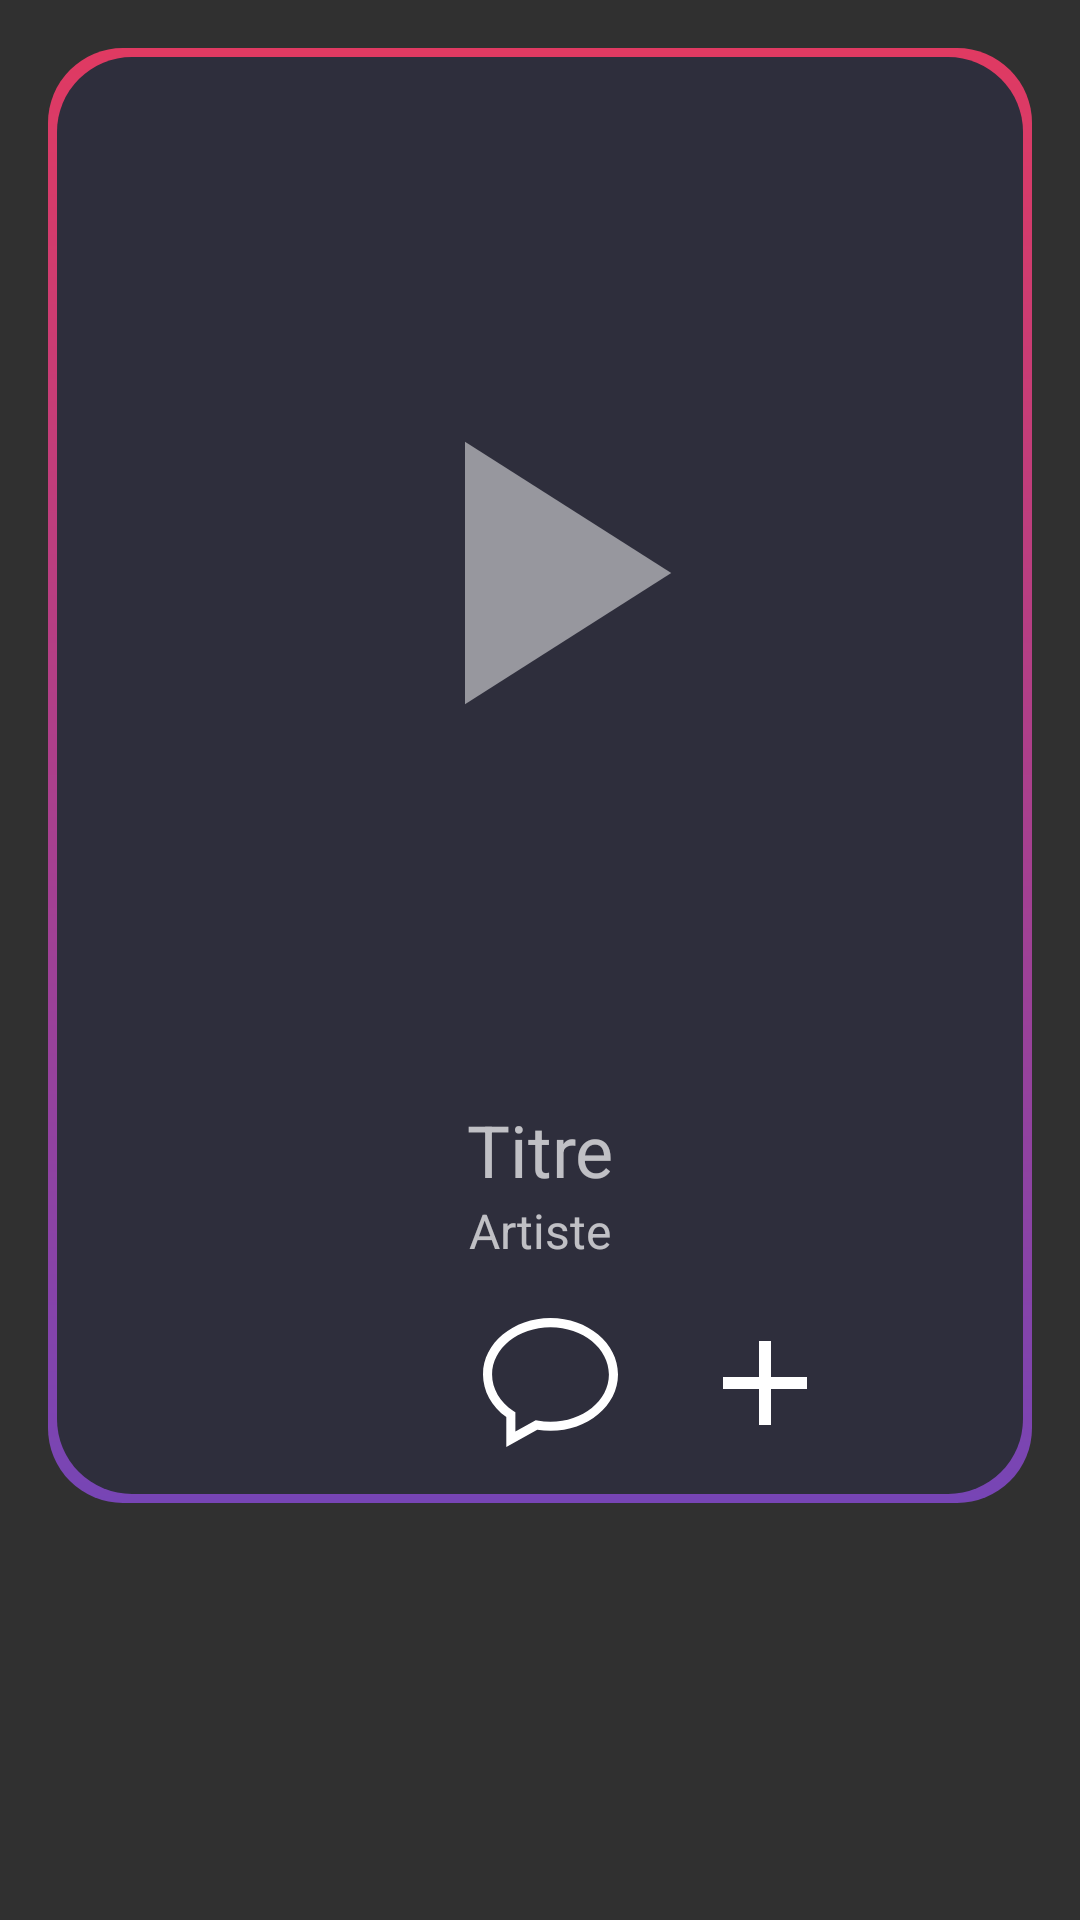

Icon click points for this 1080*1920 phone screenshot, format (x,y):
add: (765,1383)
commentary: (550,1382)
play: (568,573)
